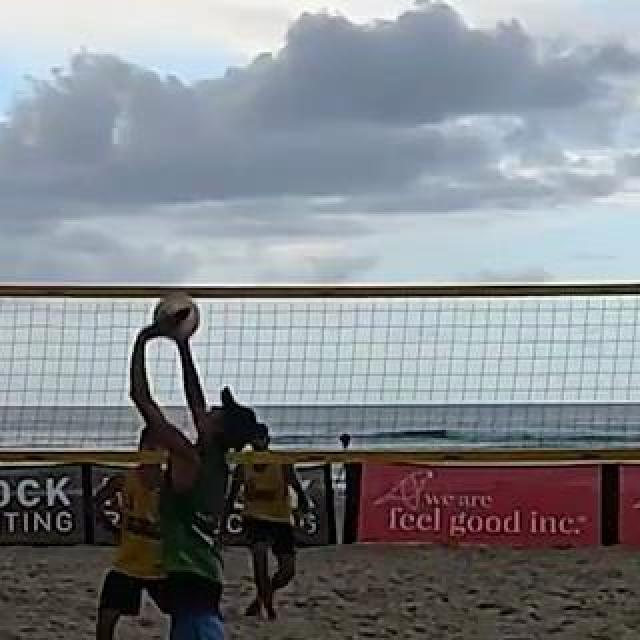volleyball: (153, 294, 201, 340)
